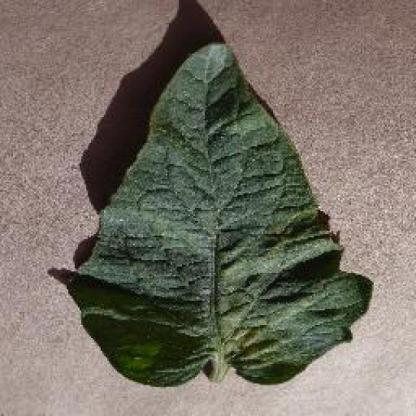Tomato_Spider_Mites: (70, 45, 373, 379)
